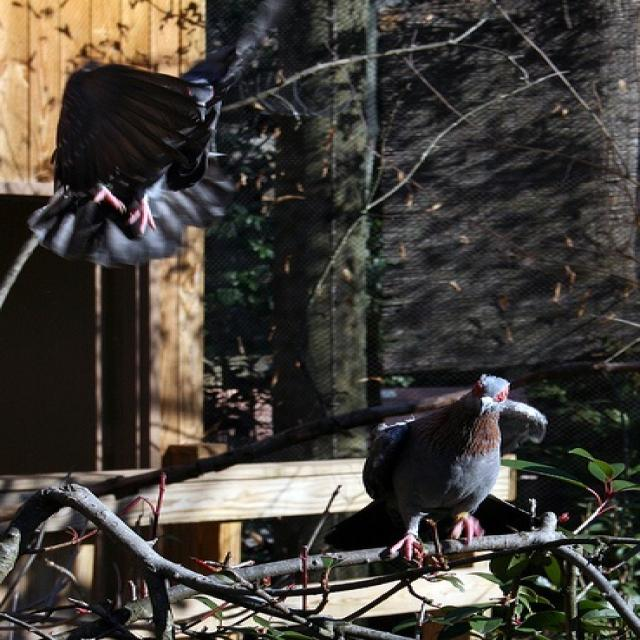bird: (28, 63, 241, 269), (361, 368, 510, 570)
